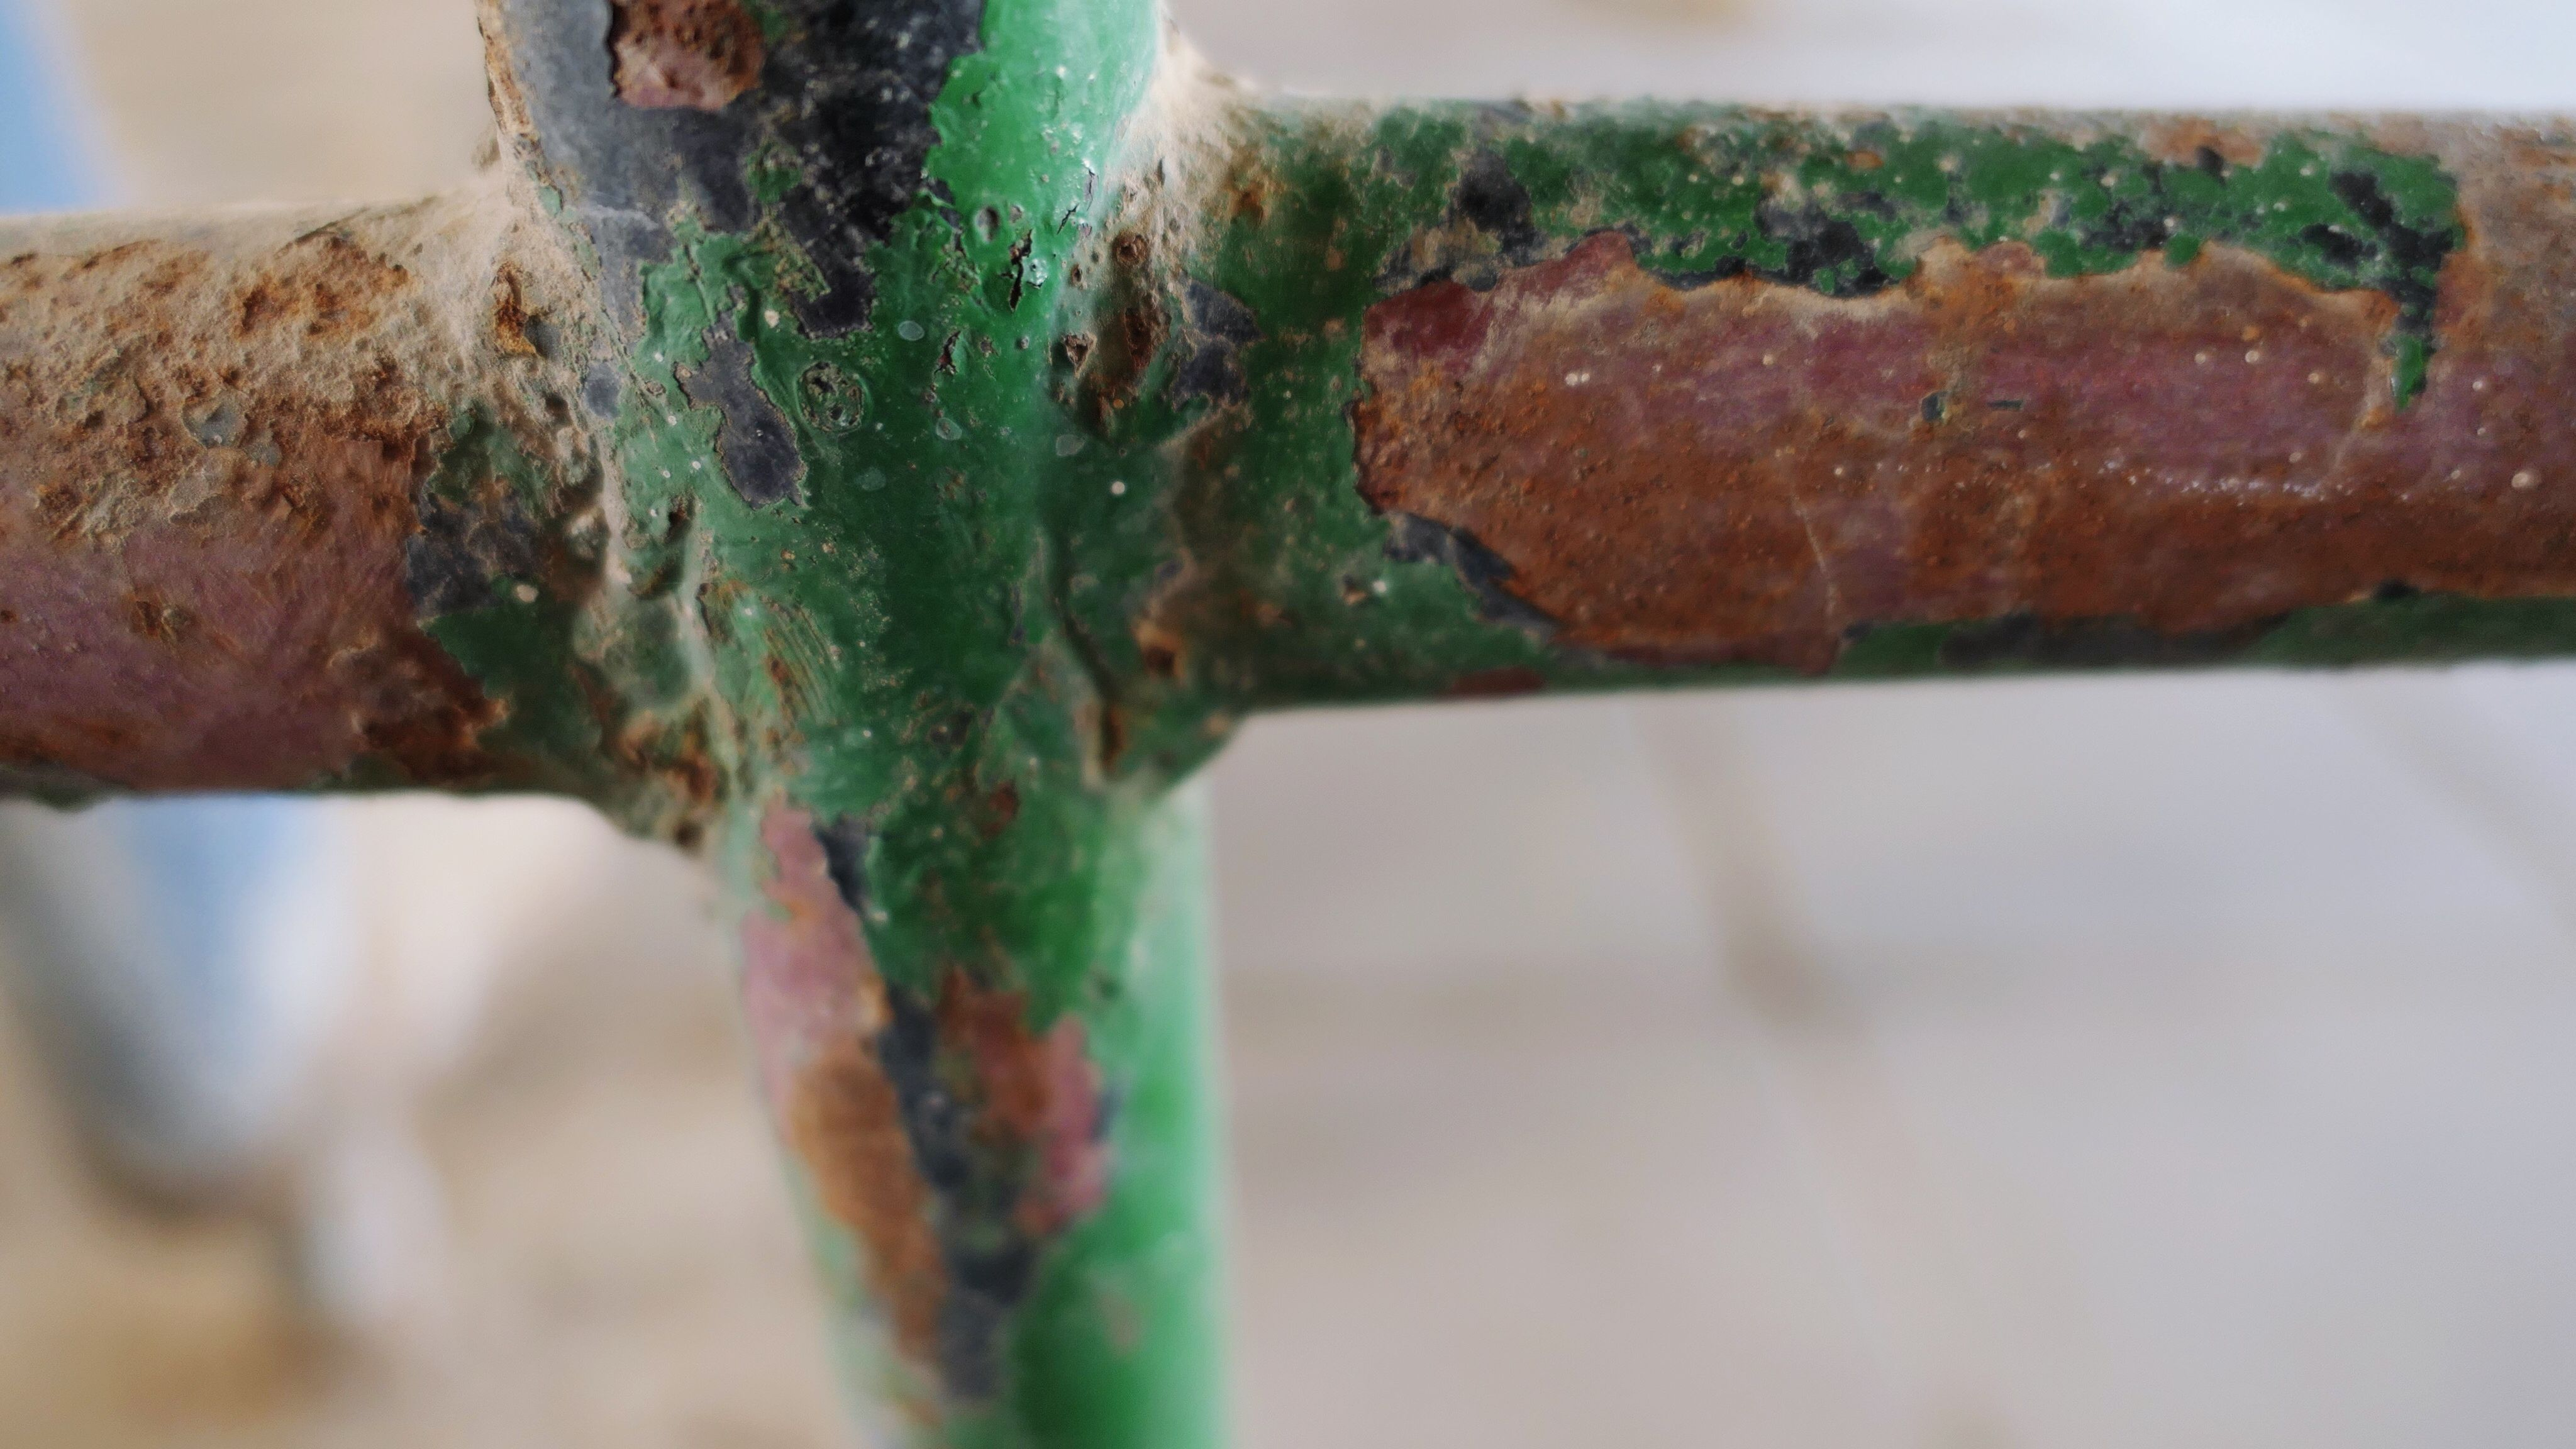rust: (1332, 258, 2562, 626), (0, 244, 522, 759)
